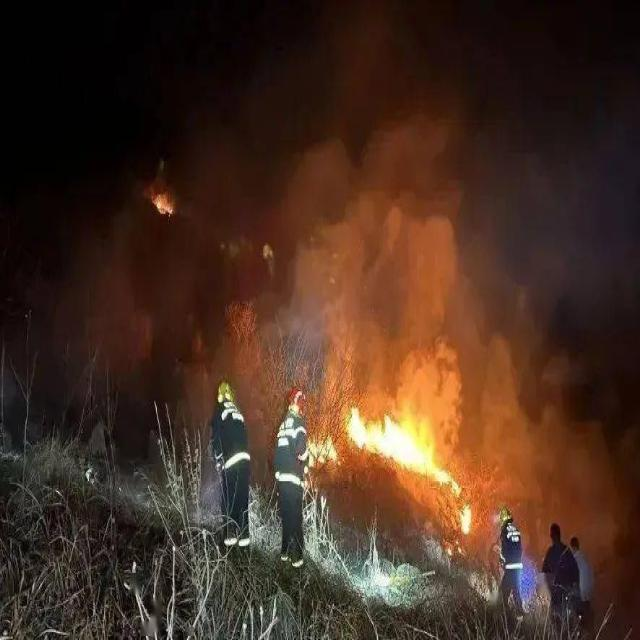Fire: (349, 403, 437, 476)
